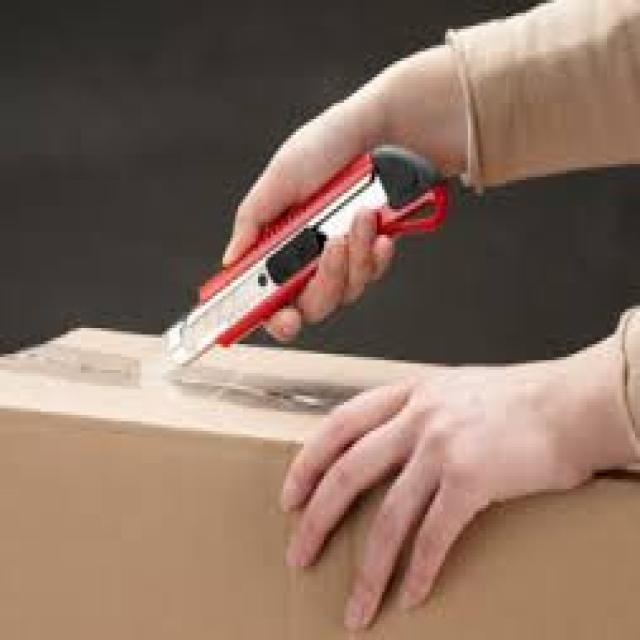cutter: (145, 146, 455, 378)
